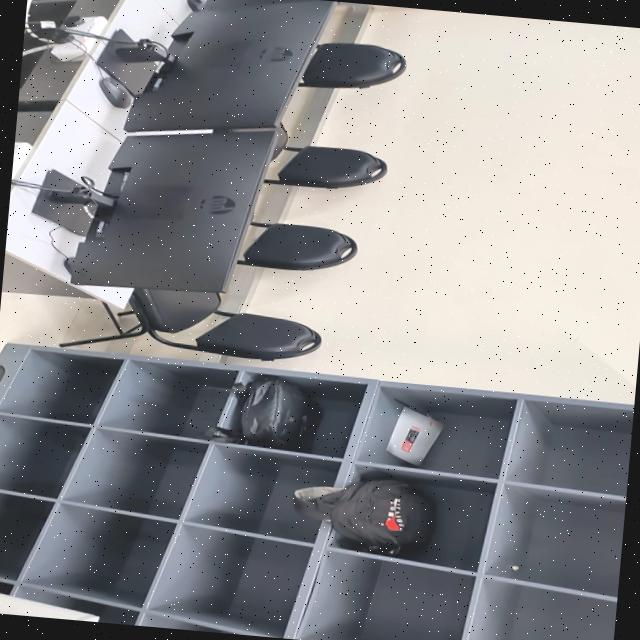Chair: (60, 288, 321, 359), (264, 123, 386, 188), (238, 221, 357, 269), (299, 42, 406, 87)
Monitor: (68, 129, 277, 291), (124, 0, 334, 131)
Mouse: (100, 74, 132, 107), (187, 0, 205, 11)
